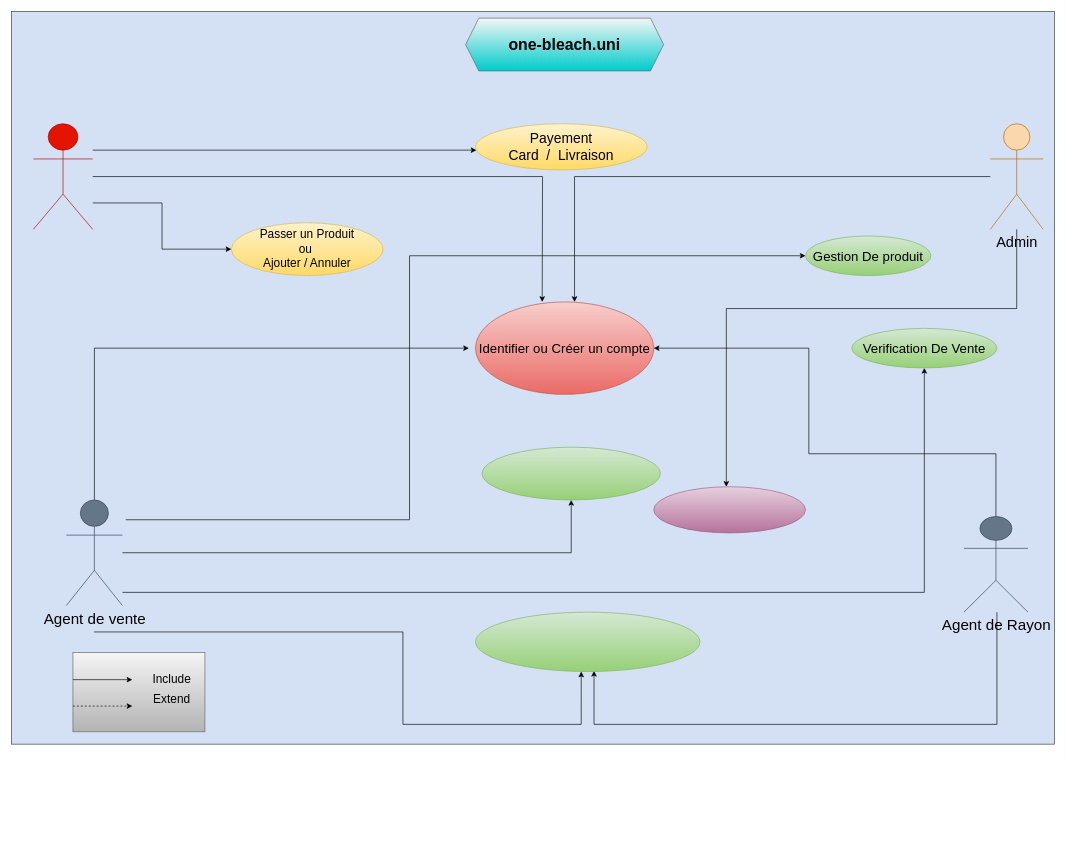
Some shapes in this 1066 by 860 pixel diagram are drawn without their labels. Each missing label, with the centre of its shape:
"Client" goes at (x=63, y=176).
"la gérance des Comptes" goes at (x=729, y=509).
"les produits n’ayant pas atteint l’objectif de vente mensuel" goes at (x=587, y=641).
"Visualisation De Stock" goes at (x=570, y=473).
